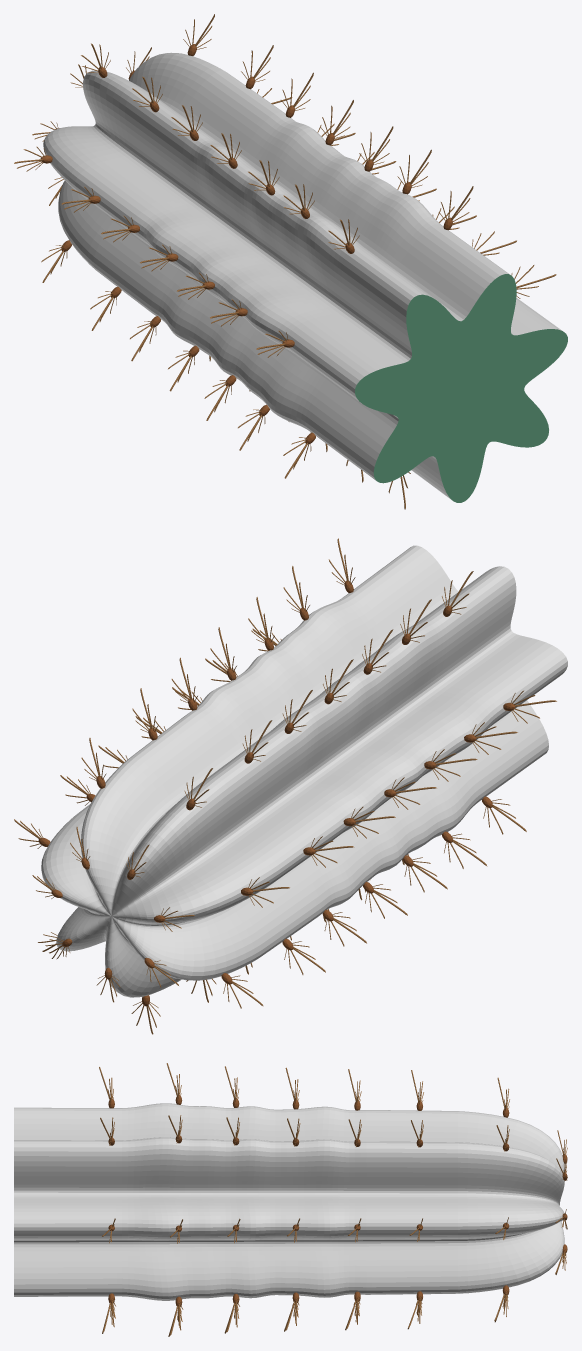
File: frame-145.glb
3 renders of one model, top to bottom at view 1: azimuth 30°, elevation 25°; view 2: azimuth 150°, elevation 25°; view 3: azimuth 270°, elevation 25°, orthographic. The views are drawn at different scales.
Parts seen in each view (by area): view 1: WACHUMA_Pachanoi_Frame_145; view 2: WACHUMA_Pachanoi_Frame_145; view 3: WACHUMA_Pachanoi_Frame_145.
Boxes of the visible parts, <box> form: WACHUMA_Pachanoi_Frame_145: <box>14,14,567,509</box>; WACHUMA_Pachanoi_Frame_145: <box>14,538,567,1034</box>; WACHUMA_Pachanoi_Frame_145: <box>14,1063,567,1336</box>.
Size of the model in its own units: 1.24 by 1.21 by 2.45.
